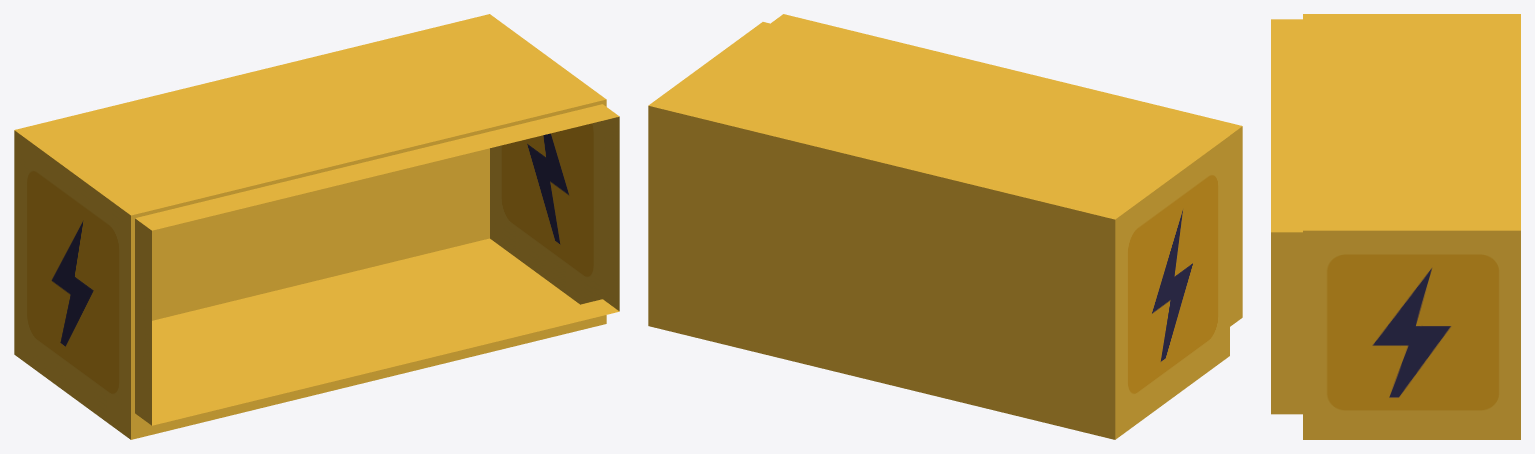
File: Battery 2.fbx
3 views of the same model, side by side, from view 1: azimuth 30°, elevation 25°; view 2: azimuth 150°, elevation 25°; view 3: azimuth 270°, elevation 25° (orthographic). The views are drawn at different scales.
Parts seen in each view (by area): view 1: Battery 2; view 2: Battery 2; view 3: Battery 2.
Boxes of the visible parts, left/top/right/bottom form: Battery 2: left=14, top=14, right=619, bottom=439; Battery 2: left=648, top=14, right=1242, bottom=439; Battery 2: left=1271, top=14, right=1520, bottom=439.
Size of the model in its own units: 11.68 by 5.26 by 5.69.
